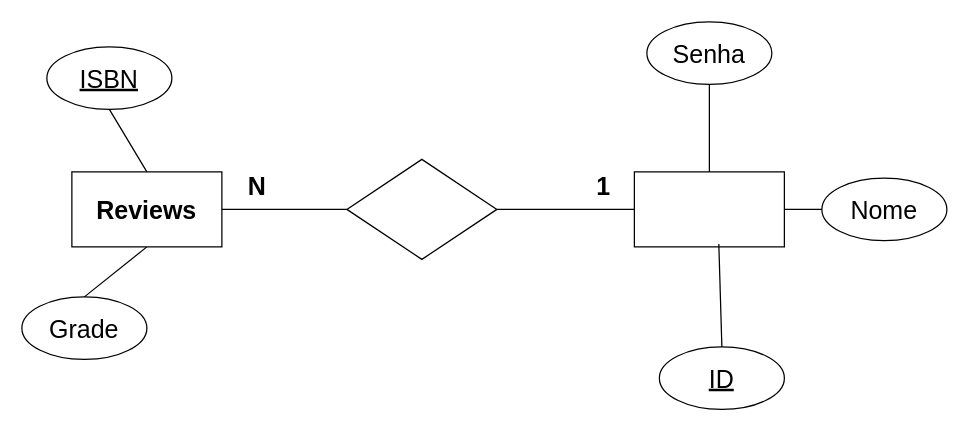
This 969x431 diagram has some shape labels left out. Here are the shapes that lost their labels. From the top down, the centre of each, then its label:
At [421,208]: "Avalia".
At [708,209]: "Users".
